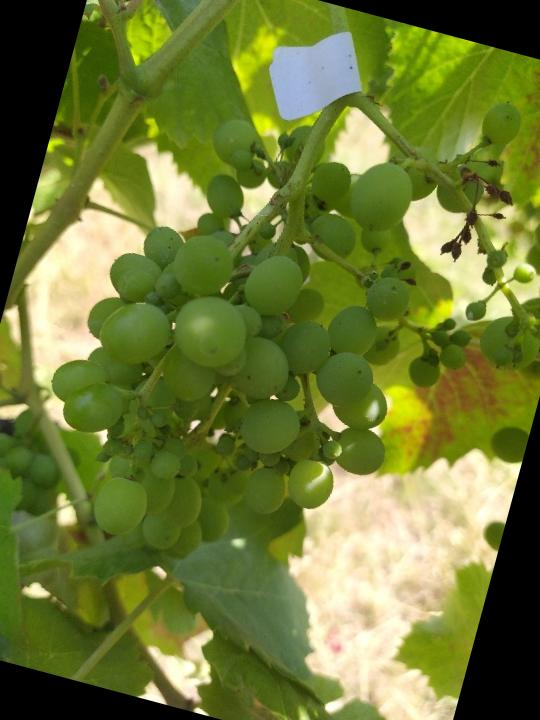grape: (13, 3, 540, 639)
